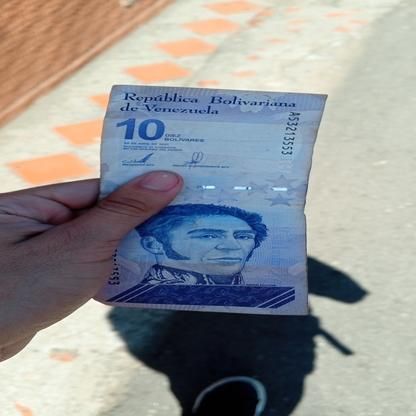ten-front-vef: (88, 82, 330, 314)
